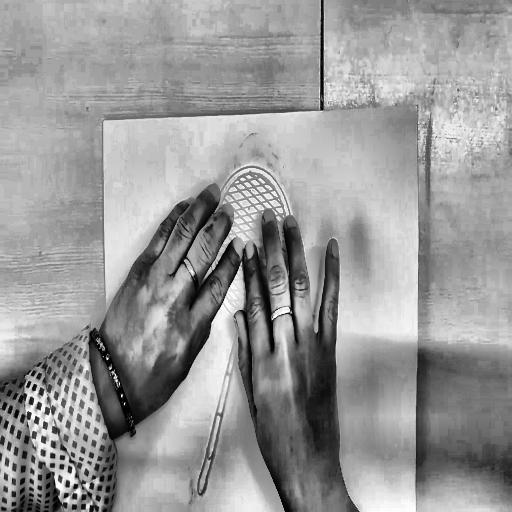badminton: (176, 154, 348, 503)
top_left: (99, 115, 108, 129)
top_right: (413, 97, 423, 114)
